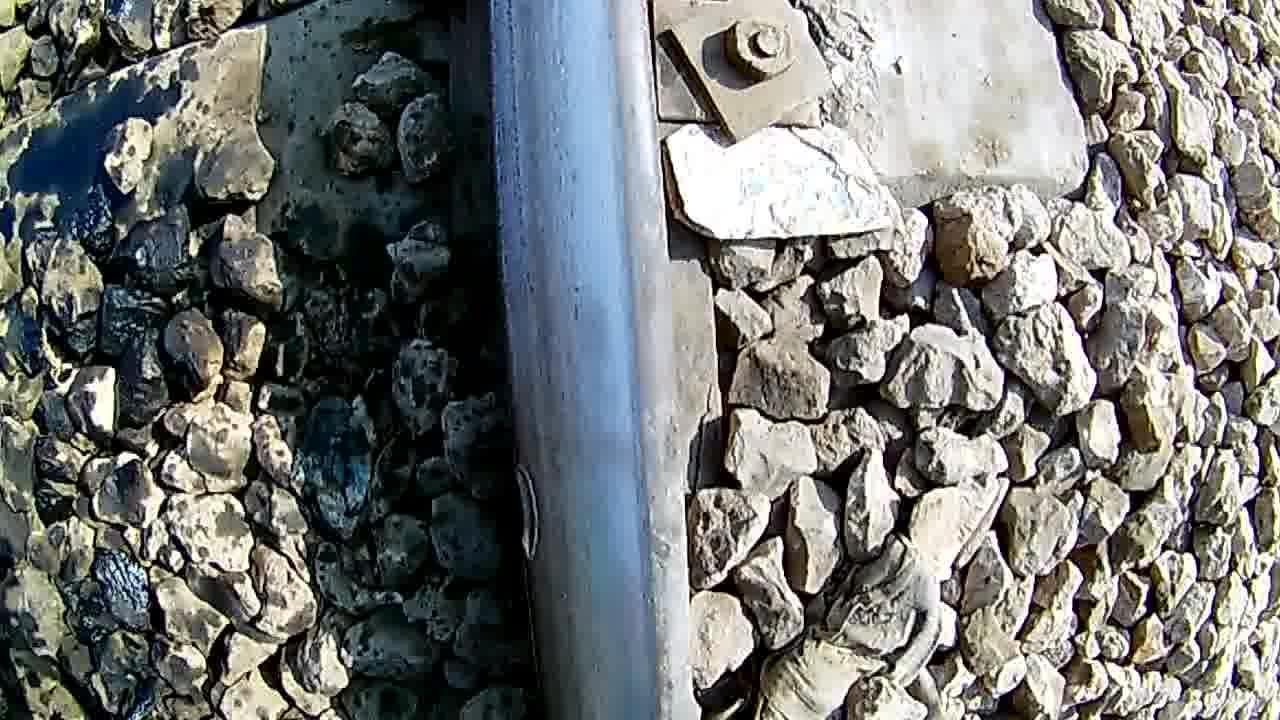crack: (494, 0, 686, 720)
